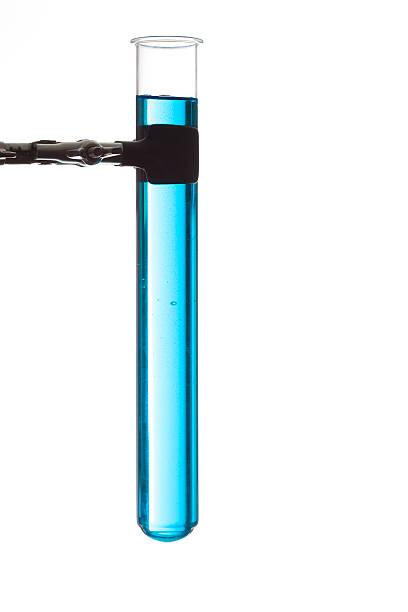Test tube: (117, 31, 203, 545)
